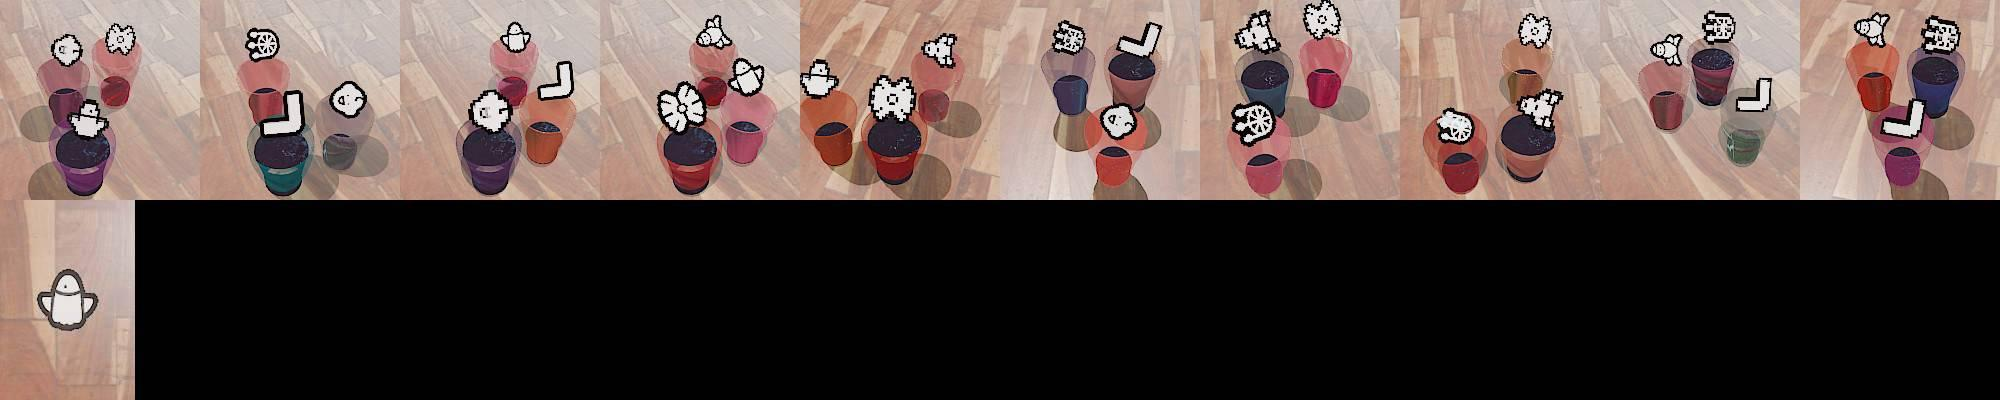icon: (35, 267, 100, 331), (656, 79, 706, 133), (868, 73, 917, 123), (260, 89, 306, 139), (467, 87, 515, 133), (1235, 10, 1281, 55), (1880, 95, 1927, 138), (1518, 87, 1564, 130), (1231, 100, 1275, 144), (67, 97, 109, 139), (1117, 20, 1162, 59), (1301, 0, 1342, 41), (799, 58, 839, 98), (1435, 105, 1475, 145), (1919, 16, 1960, 55), (536, 59, 574, 101), (1098, 101, 1138, 139), (328, 80, 368, 118), (1735, 74, 1773, 112), (729, 57, 765, 97), (1854, 12, 1892, 49), (694, 13, 733, 49), (1050, 18, 1086, 56), (1518, 11, 1553, 50), (920, 32, 957, 68), (244, 26, 280, 61), (1702, 10, 1736, 45), (50, 33, 83, 69), (499, 20, 533, 54), (1651, 32, 1683, 66), (105, 22, 137, 56)
